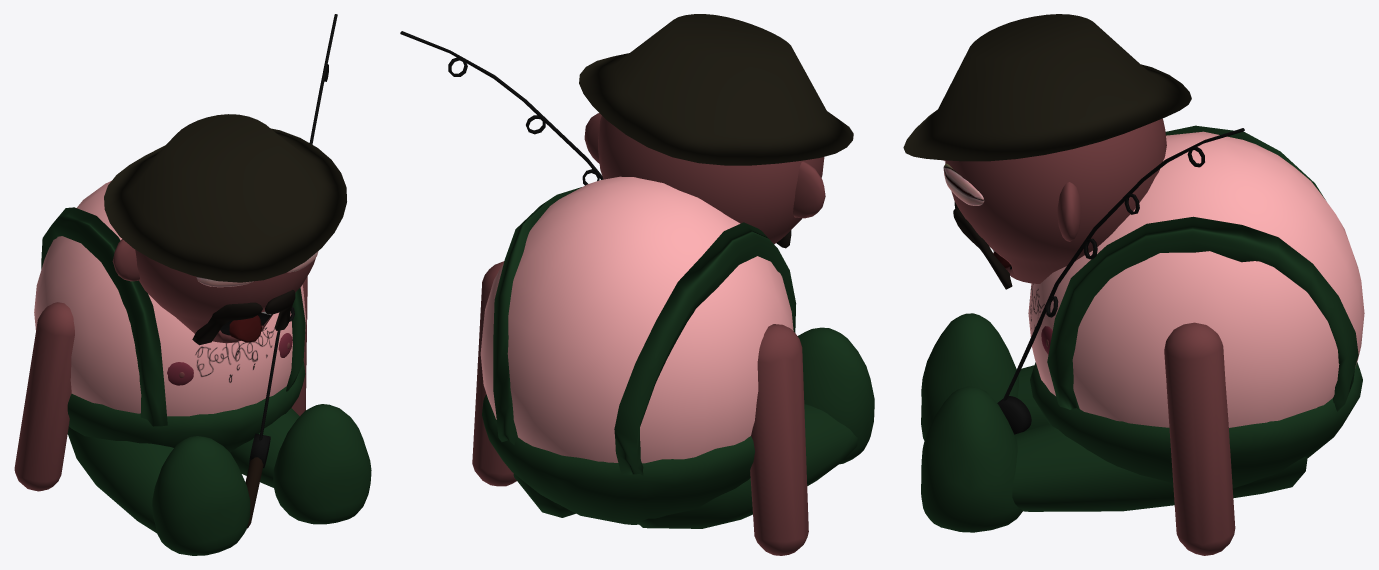
File: angler.fbx
The picture shows the model from 3 angles, left to right: view 1: azimuth 30°, elevation 25°; view 2: azimuth 150°, elevation 25°; view 3: azimuth 270°, elevation 25°; orthographic projection. The views are drawn at different scales.
Visible parts, largest first — view 1: Hat_001, Body, Foot_R, Foot_L, Arm_R, Body_001, Hosentr_ger_R, Head, Leg_R, Angel, Leg_L, Beard_R (+6 smaller); view 2: Body, Hat_001, Body_001, Arm_R, Head, Hosentr_ger_R, Foot_R, Leg_R, Hosentr_ger_L, Arm_L, Ohr_R, Angel (+1 smaller); view 3: Body, Hat_001, Head, Hosentr_ger_L, Arm_L, Body_001, Foot_L, Leg_L, Foot_R, Angel, Ohr_L, Beard_L (+4 smaller).
Part boxes in pixels (x1,y1,x2,y2): Hat_001: (104, 114, 346, 282); Body: (34, 181, 306, 416); Foot_R: (152, 436, 250, 555); Foot_L: (273, 404, 371, 524); Arm_R: (14, 302, 74, 491); Body_001: (67, 362, 305, 452); Hosentr_ger_R: (41, 207, 167, 426); Head: (135, 250, 315, 343); Leg_R: (67, 426, 173, 533); Angel: (245, 14, 337, 528); Leg_L: (230, 408, 299, 487); Beard_R: (192, 302, 262, 345); Body: (480, 176, 793, 463); Hat_001: (579, 14, 853, 165); Body_001: (482, 394, 754, 524); Arm_R: (750, 324, 808, 555); Head: (598, 116, 824, 244); Hosentr_ger_R: (614, 222, 796, 475); Foot_R: (797, 327, 874, 464); Leg_R: (637, 404, 857, 528); Hosentr_ger_L: (493, 187, 581, 444); Arm_L: (472, 261, 516, 486); Ohr_R: (793, 161, 825, 218); Angel: (400, 31, 603, 179); Body: (1028, 131, 1364, 427); Hat_001: (903, 14, 1191, 161); Head: (945, 118, 1166, 283); Hosentr_ger_L: (1047, 216, 1358, 411); Arm_L: (1164, 322, 1235, 555); Body_001: (1030, 362, 1362, 488); Foot_L: (921, 386, 1022, 532); Leg_L: (1012, 424, 1307, 511); Foot_R: (921, 313, 1018, 440); Angel: (997, 128, 1244, 434); Ohr_L: (1057, 182, 1081, 241); Beard_L: (953, 208, 1012, 289).
Bounding box in the file's own units: 1051 × 1167 × 1039.
Materials: 12 (2 with a texture image).
